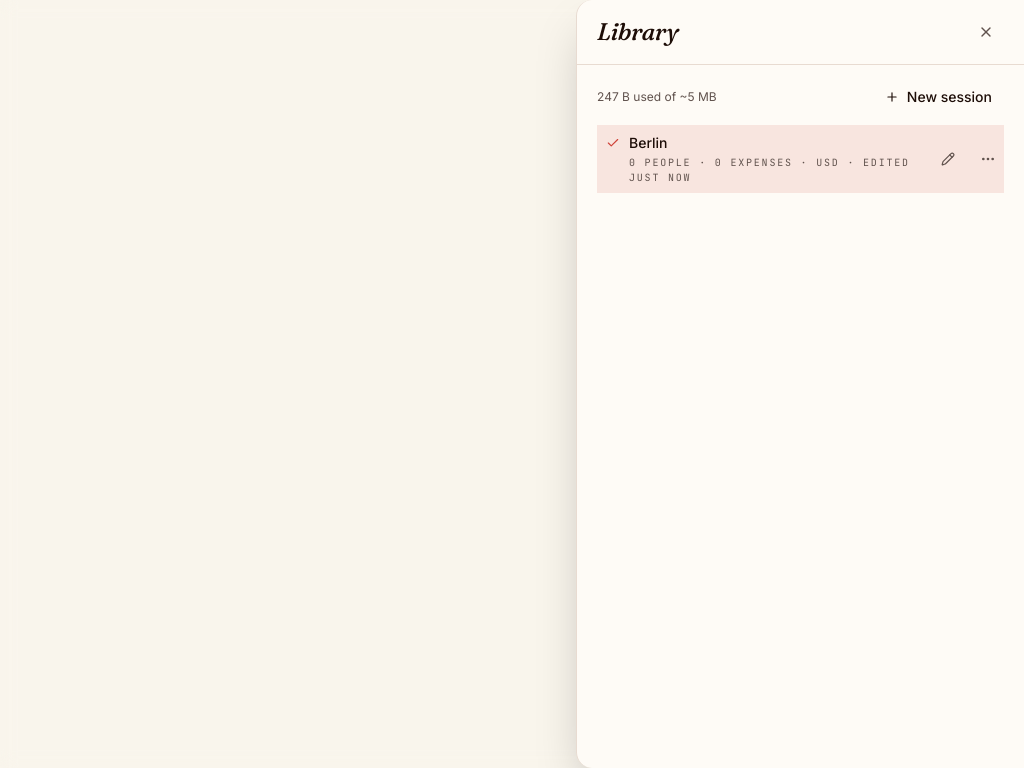
Test: ManageLibrarySheet › inline-renames an entry via the pencil button
Click the button named "Rename Berlin" at coordinates (948, 159), box [932, 143, 964, 175]
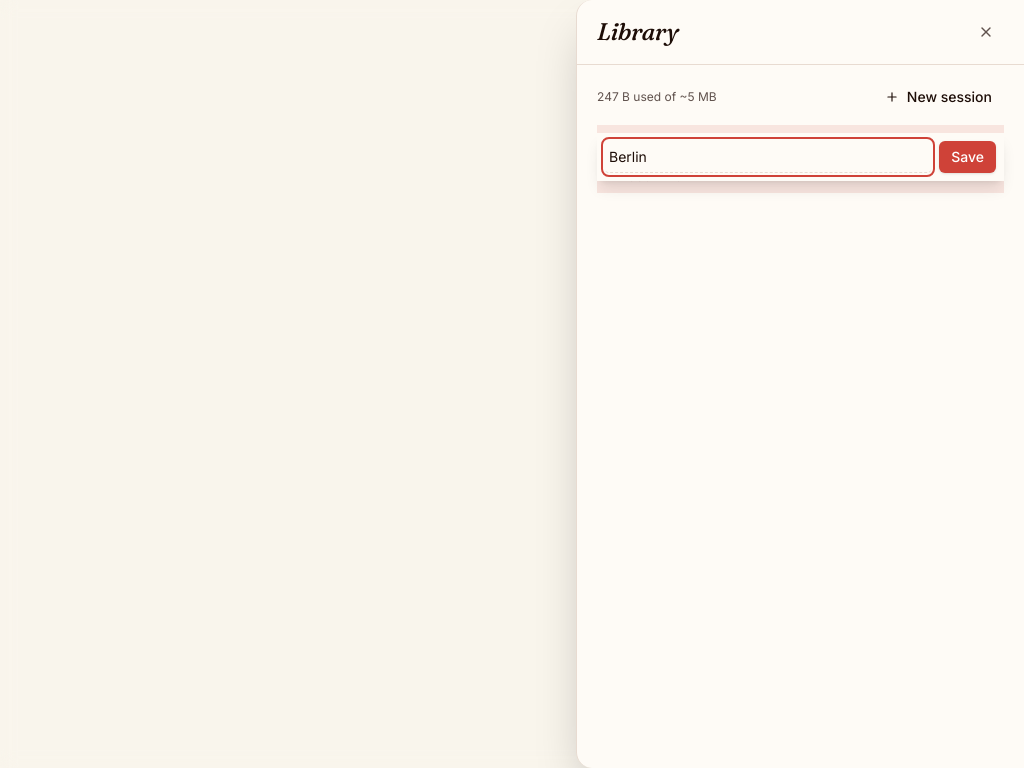
Replace the text in the field showing "Berlin" with "Berlin May" at coordinates (768, 157), box [605, 141, 931, 173]
Then press Enter
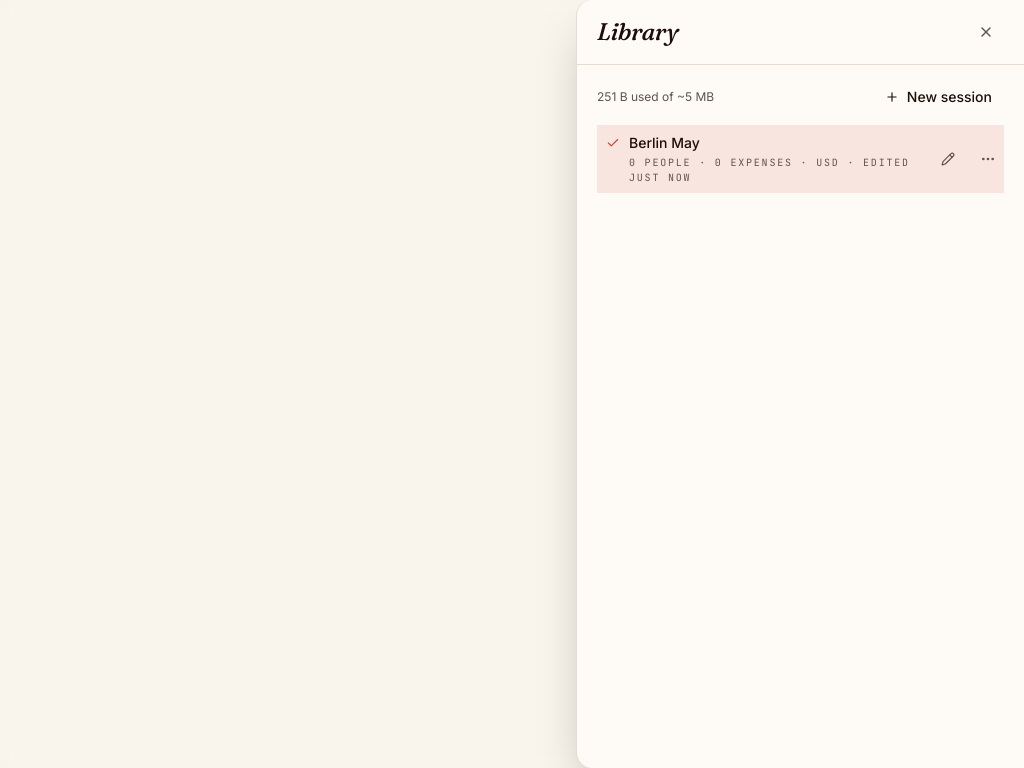
Result: the text "Berlin May" is shown at [629, 133, 700, 153]
